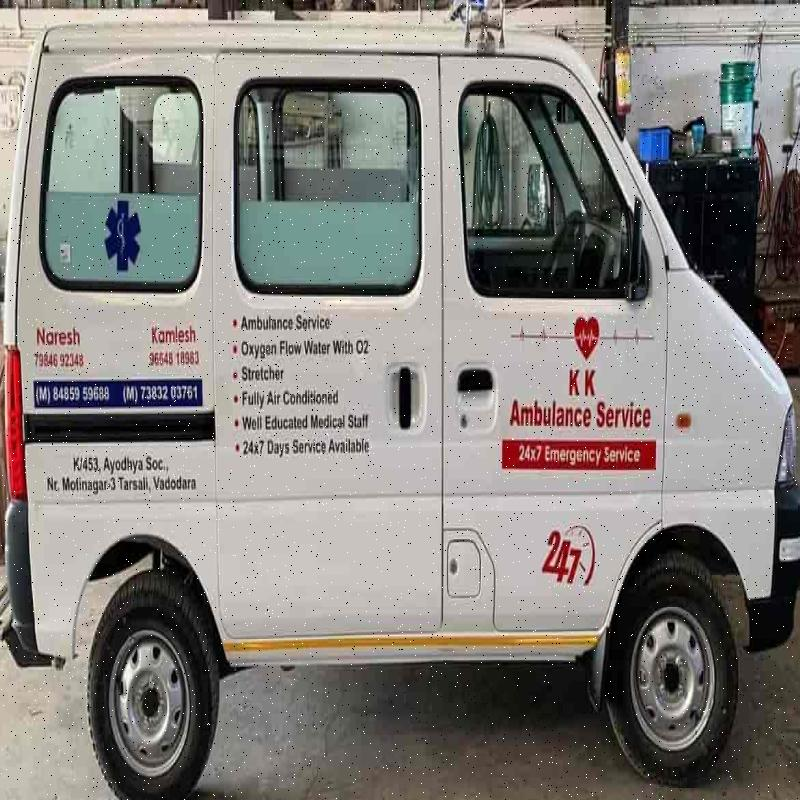ambulance: (6, 26, 800, 800)
